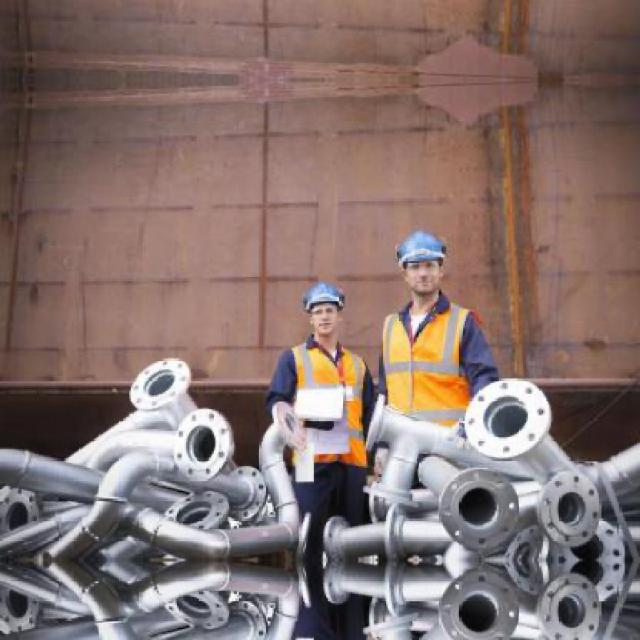helmet: (392, 224, 452, 298), (300, 278, 348, 340)
